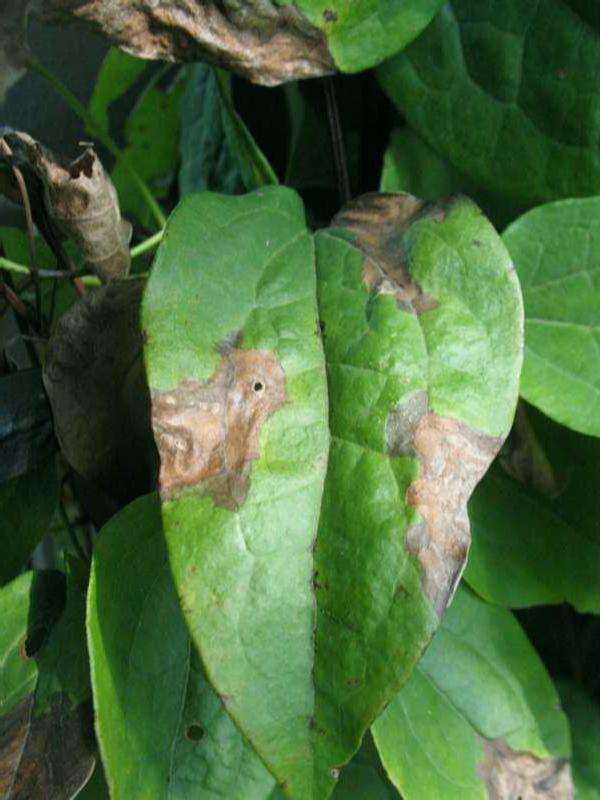Tomato leaf bacterial spot: (147, 172, 530, 793)
